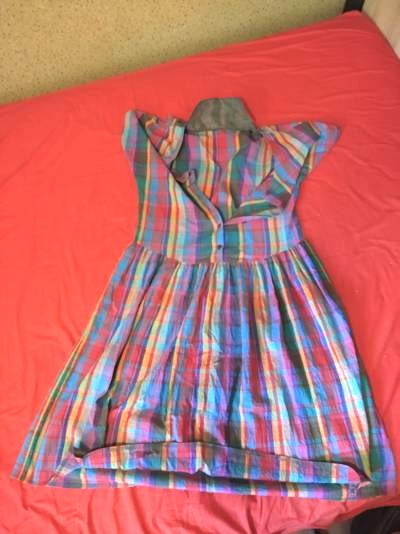Dress: (3, 76, 390, 510)
